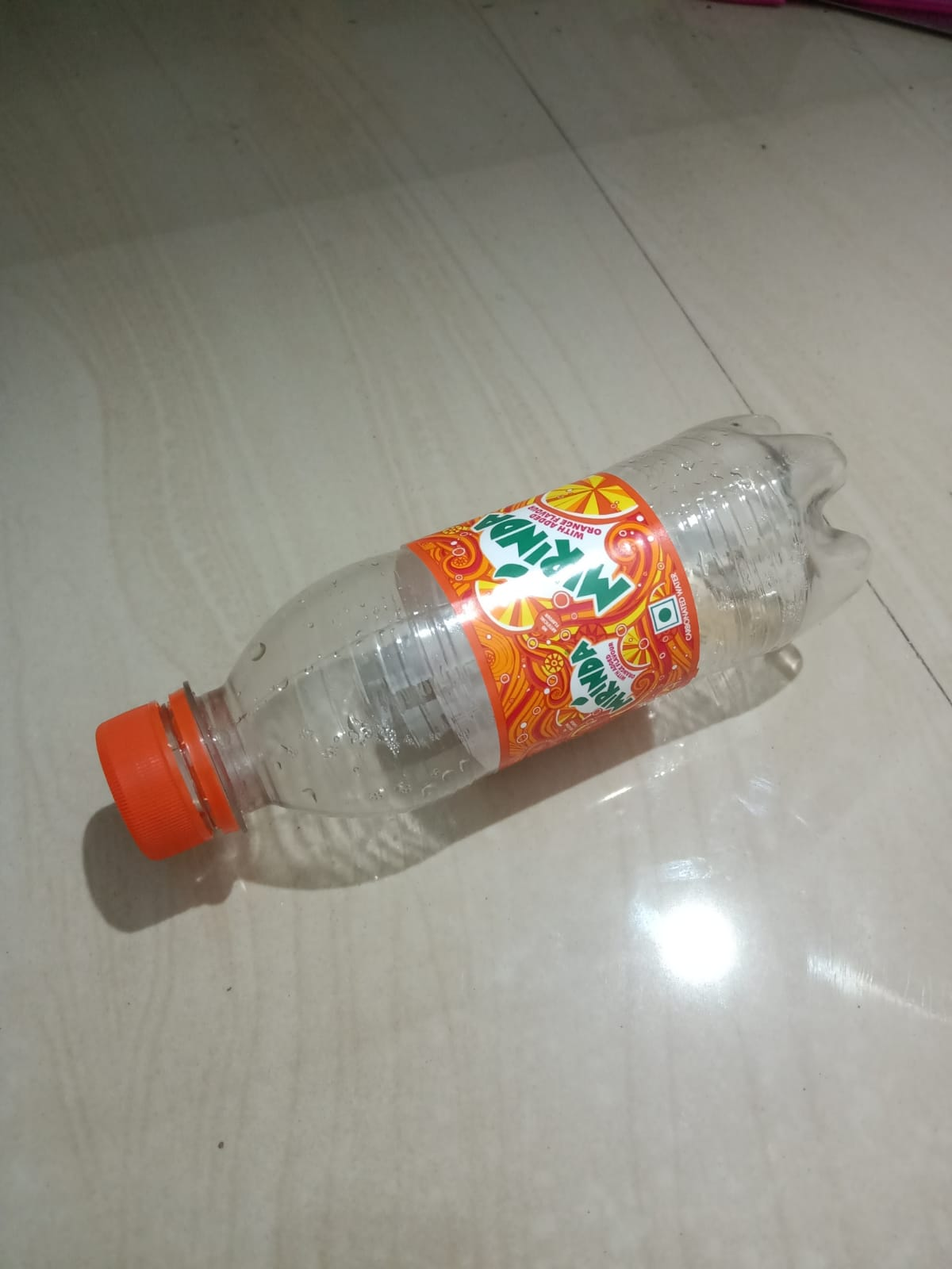plastic: (45, 374, 892, 867)
